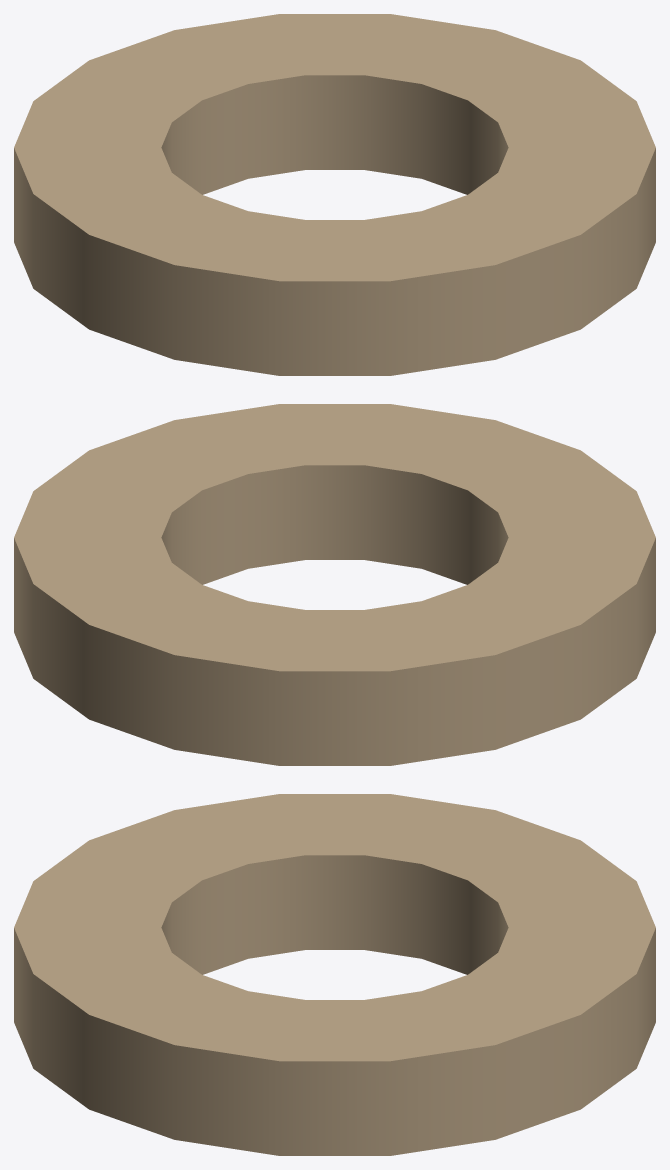
File: cerchietto.fbx
3 renders of one model, top to bottom at view 1: azimuth 30°, elevation 25°; view 2: azimuth 150°, elevation 25°; view 3: azimuth 270°, elevation 25°, orthographic.
Visible parts, largest first — view 1: USB1; view 2: USB1; view 3: USB1.
Part boxes in pixels (x1,y1,x2,y2): USB1: (14, 14, 655, 375); USB1: (14, 404, 655, 765); USB1: (14, 794, 655, 1155).
Size of the model in its own units: 549 by 90.73 by 557.
